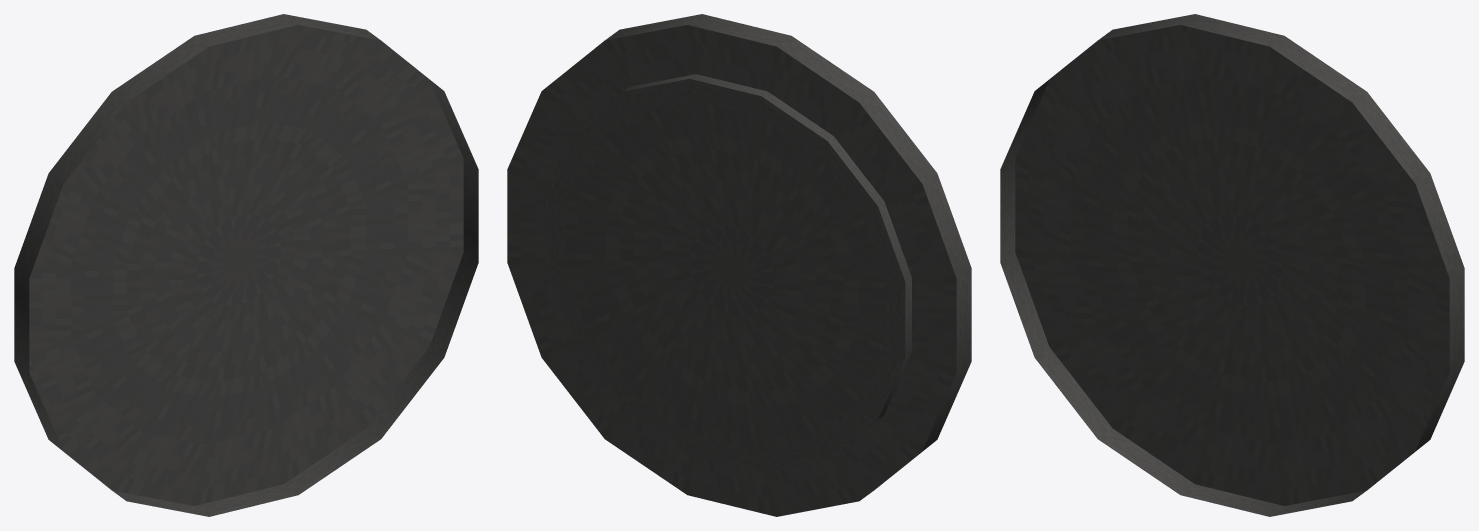
Rendered from hw_flap.obj.
3 views of the same model, side by side, from view 1: azimuth 30°, elevation 25°; view 2: azimuth 150°, elevation 25°; view 3: azimuth 330°, elevation 25° (orthographic).
Visible parts, largest first — view 1: hw_flap; view 2: hw_flap; view 3: hw_flap.
Part boxes in pixels (x1,y1,x2,y2): hw_flap: (14,14,478,516); hw_flap: (507,14,971,516); hw_flap: (1000,14,1464,516).
Bounding box in the file's own units: 0.875 × 0.875 × 0.0719.
